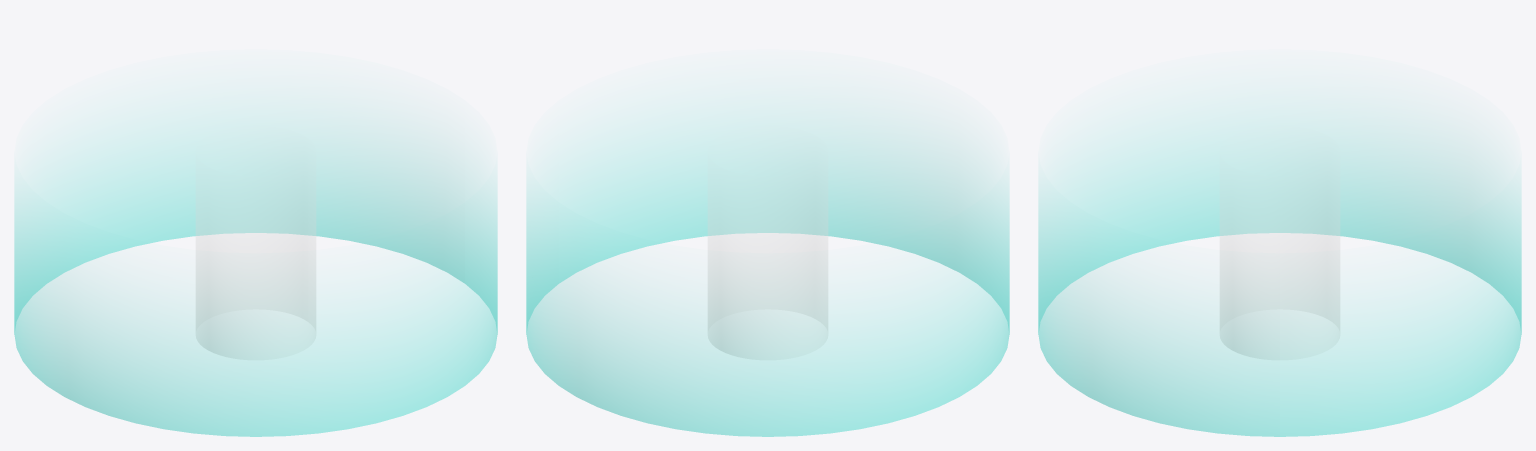
Rendered from fx_pillar_teal.glb.
3 views of the same model, side by side, from view 1: azimuth 30°, elevation 25°; view 2: azimuth 150°, elevation 25°; view 3: azimuth 270°, elevation 25° (orthographic).
Parts seen in each view (by area): view 1: fx_pillar_teal; view 2: fx_pillar_teal; view 3: fx_pillar_teal.
Part boxes in pixels (box(x1,y1,x2,y2)): fx_pillar_teal: box(14, 107, 497, 436); fx_pillar_teal: box(526, 107, 1009, 436); fx_pillar_teal: box(1038, 107, 1521, 436).
Bounding box in the file's own units: 2 × 1 × 2.
Materials: 2 (2 with a texture image).
